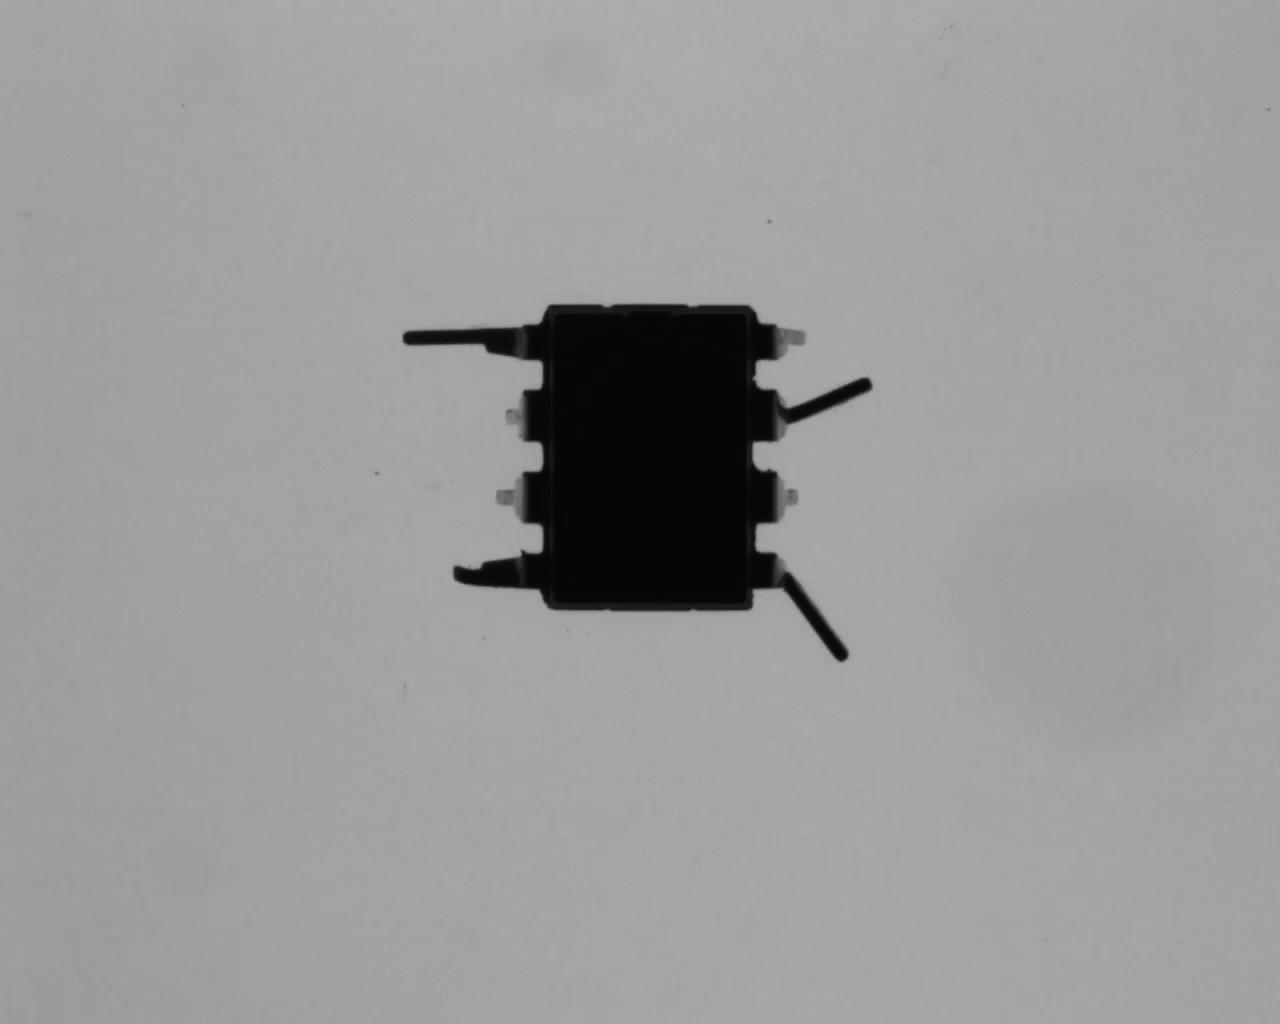Leg: (738, 553, 860, 669), (739, 376, 871, 444), (382, 323, 543, 367), (411, 550, 544, 596), (479, 462, 537, 527), (743, 326, 829, 369), (485, 385, 541, 439), (739, 466, 773, 533)
